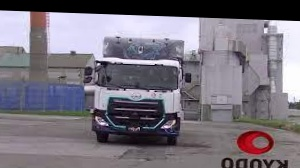truck: (90, 36, 184, 150)
